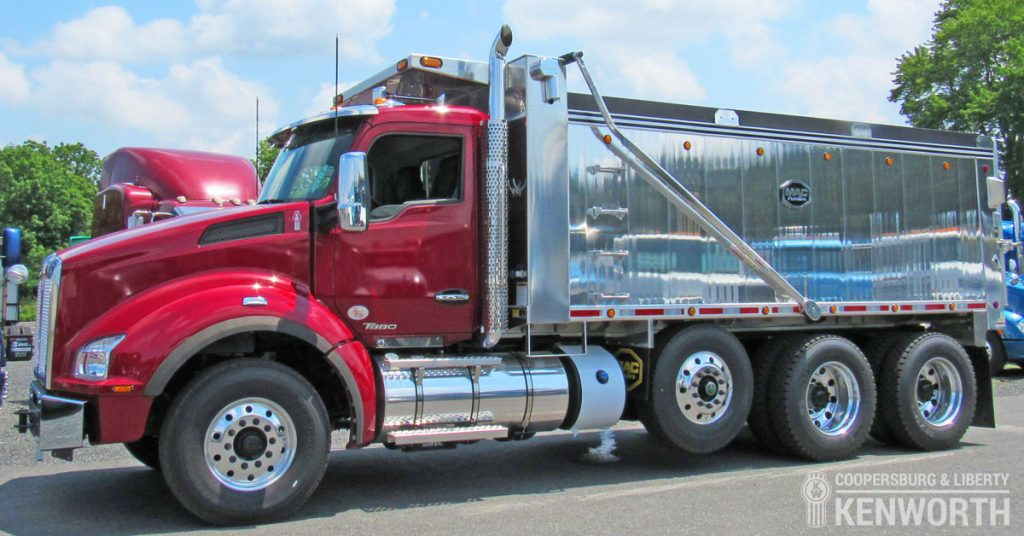truck: (25, 53, 999, 524)
